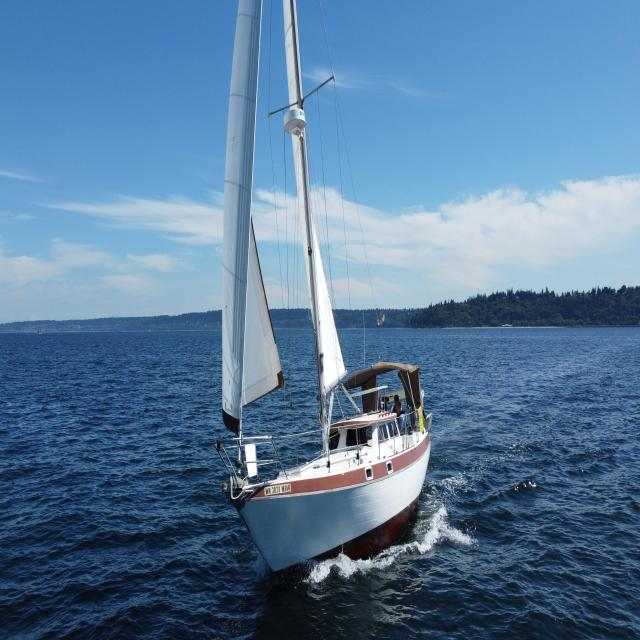boat: (215, 3, 437, 601)
